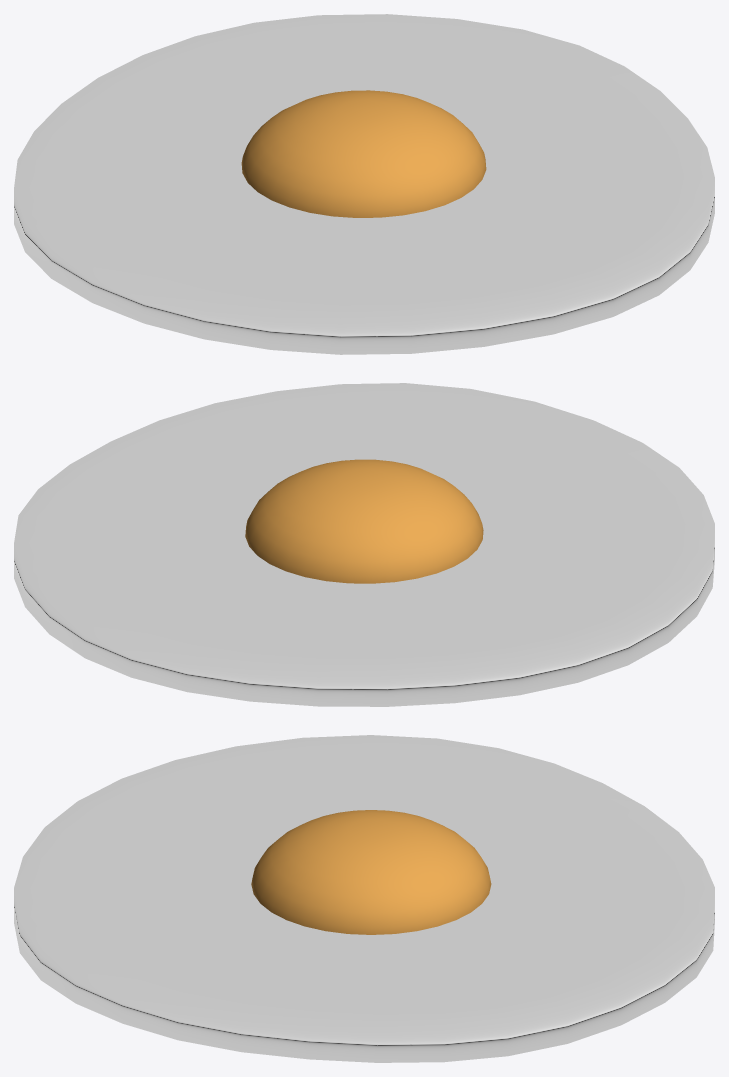
The model's file is FriedEgg.fbx.
The picture shows the model from 3 angles, top to bottom: view 1: azimuth 30°, elevation 25°; view 2: azimuth 150°, elevation 25°; view 3: azimuth 270°, elevation 25°; orthographic projection. The views are drawn at different scales.
Parts seen in each view (by area): view 1: EggWhite; view 2: EggWhite; view 3: EggWhite.
Boxes of the visible parts, bbox=[...] form: EggWhite: bbox=[14, 14, 714, 354]; EggWhite: bbox=[14, 383, 714, 706]; EggWhite: bbox=[14, 735, 714, 1062].
Bounding box in the file's own units: 196 × 28.64 × 198.
